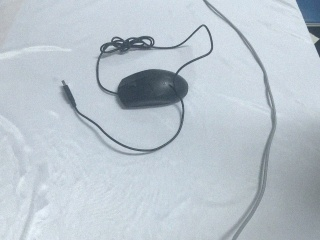mouse: (115, 67, 189, 110)
